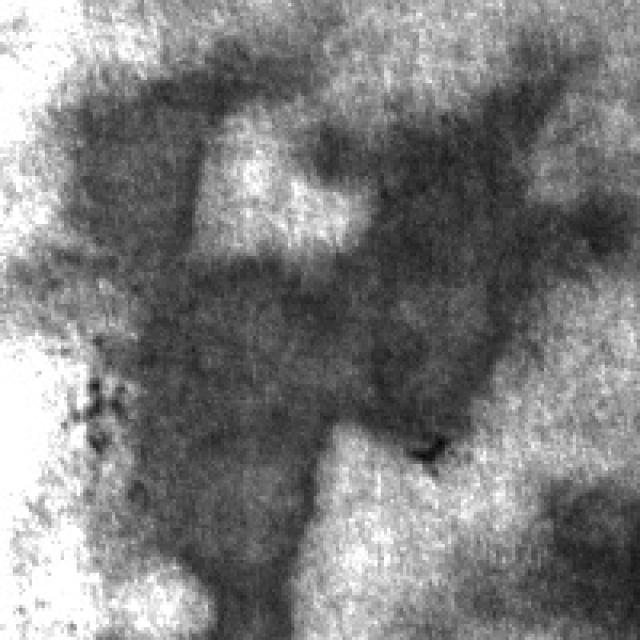patches: (314, 48, 634, 461), (99, 244, 352, 630), (13, 26, 349, 259), (518, 480, 640, 637)
